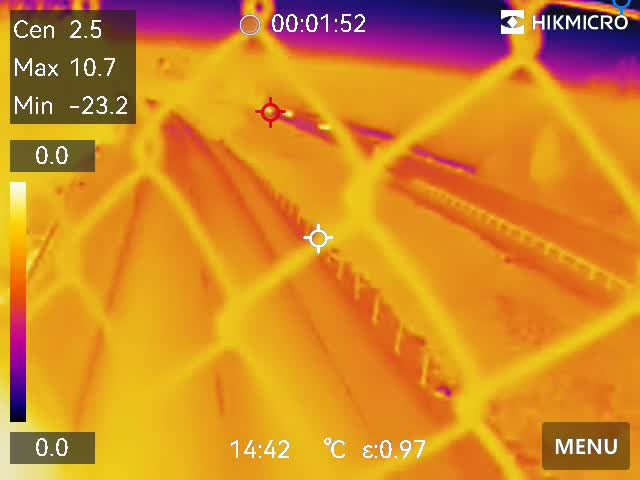vehicle: (279, 108, 297, 121), (314, 122, 334, 131)
